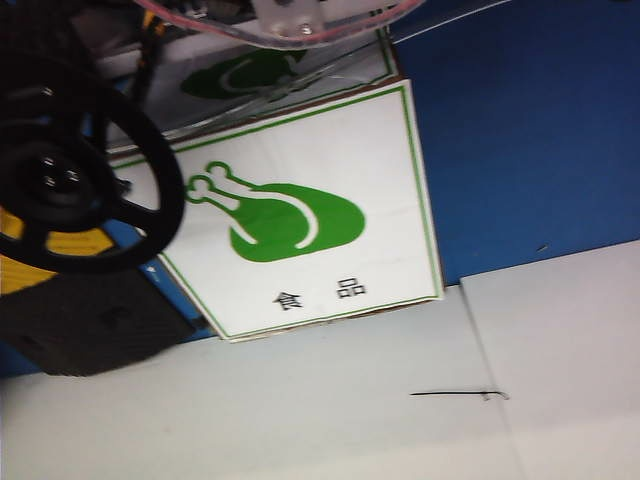Cube_food: (182, 153, 386, 321)
